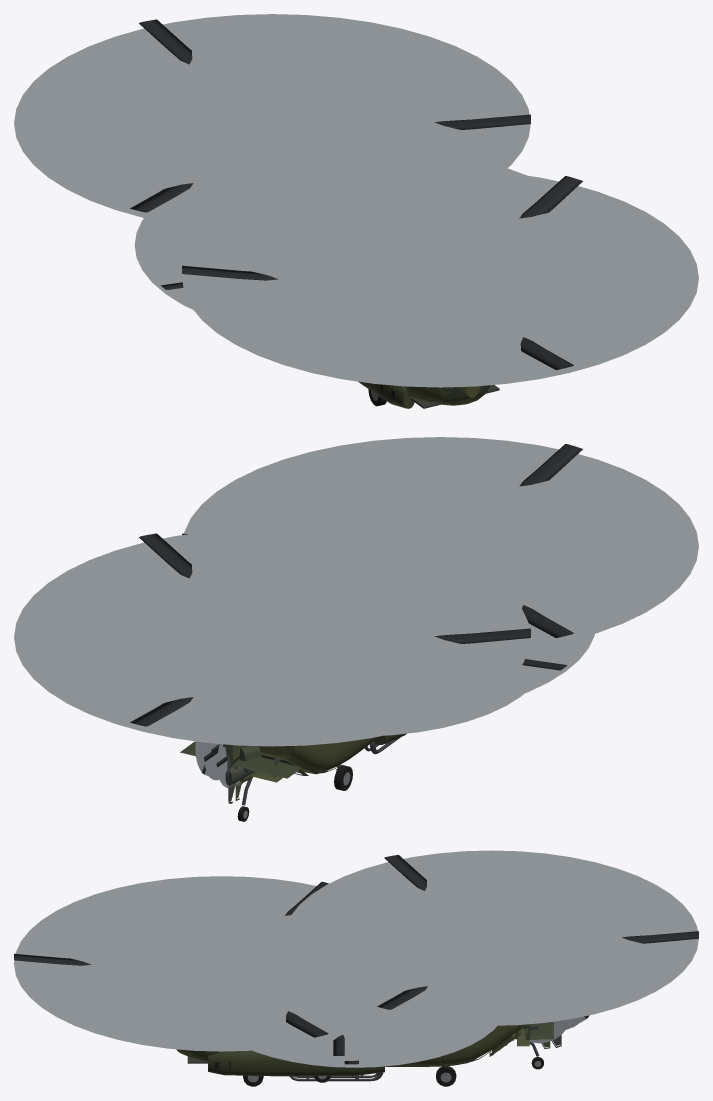
File: helis.glb
The picture shows the model from 3 angles, top to bottom: view 1: azimuth 30°, elevation 25°; view 2: azimuth 150°, elevation 25°; view 3: azimuth 270°, elevation 25°; orthographic projection. The views are drawn at different scales.
Visible parts, largest first — view 1: chinook_rotor_rear_blur, chinook_rotor_front_blur, blackhawk_rotor_blur, chinook_rotor_front, chinook_rotor_rear, chinook_body; view 2: chinook_rotor_rear_blur, chinook_rotor_front_blur, chinook_body, blackhawk_rotor_blur, chinook_rotor_rear, chinook_rotor_front, blackhawk_body, cobra_rotor_blur, griffon_body; view 3: chinook_rotor_rear_blur, chinook_rotor_front_blur, chinook_body, blackhawk_rotor_blur, cobra_rotor_blur, chinook_rotor_rear, chinook_rotor_front, blackhawk_body.
Part boxes in pixels (<box>): chinook_rotor_rear_blur: <box>14,14,530,232</box>; chinook_rotor_front_blur: <box>182,172,698,387</box>; blackhawk_rotor_blur: <box>134,168,526,309</box>; chinook_rotor_front: <box>182,176,582,370</box>; chinook_rotor_rear: <box>130,19,530,212</box>; chinook_body: <box>358,381,499,408</box>; chinook_rotor_rear_blur: <box>14,528,530,746</box>; chinook_rotor_front_blur: <box>184,437,698,648</box>; chinook_body: <box>258,733,406,790</box>; blackhawk_rotor_blur: <box>462,634,594,711</box>; chinook_rotor_rear: <box>130,533,530,726</box>; chinook_rotor_front: <box>182,444,582,637</box>; blackhawk_body: <box>180,741,301,821</box>; cobra_rotor_blur: <box>384,694,523,735</box>; griffon_body: <box>225,742,388,803</box>; chinook_rotor_rear_blur: <box>284,850,698,1025</box>; chinook_rotor_front_blur: <box>14,876,389,1051</box>; chinook_body: <box>176,1025,520,1086</box>; blackhawk_rotor_blur: <box>255,1014,493,1059</box>; cobra_rotor_blur: <box>253,1025,496,1067</box>; chinook_rotor_rear: <box>377,855,698,1009</box>; chinook_rotor_front: <box>14,881,328,1037</box>; blackhawk_body: <box>314,1022,553,1082</box>.
Bounding box in the file's own units: 18.3 × 6.62 × 30.2.
